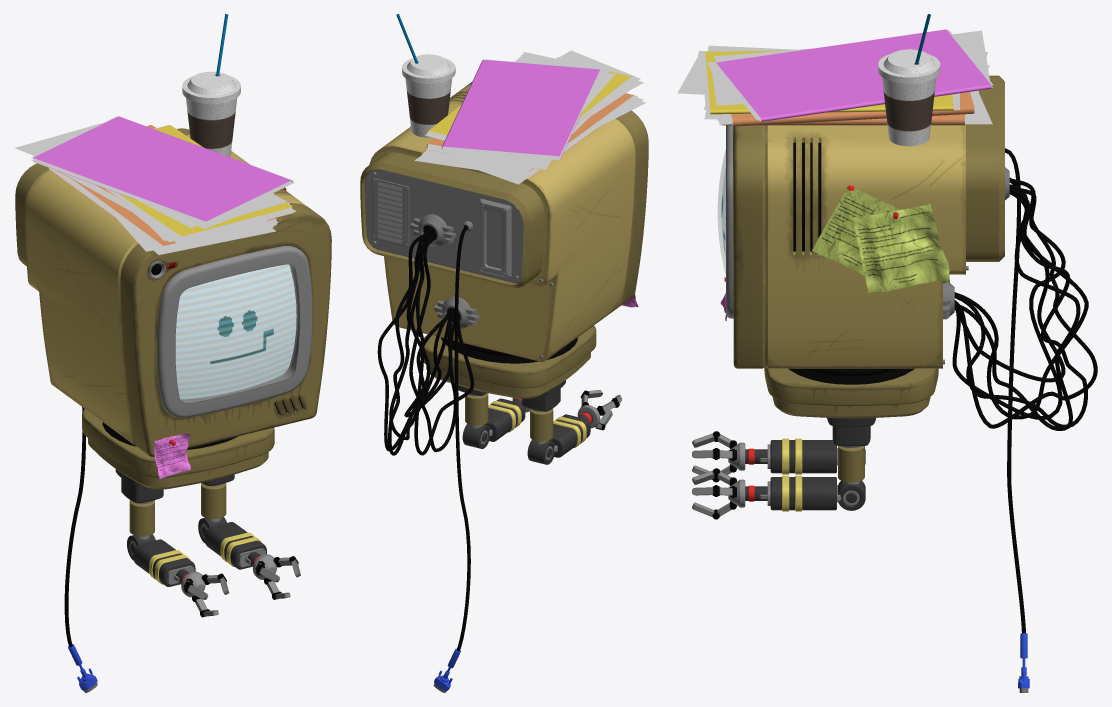
File: robot.glb
The picture shows the model from 3 angles, left to right: view 1: azimuth 30°, elevation 25°; view 2: azimuth 150°, elevation 25°; view 3: azimuth 270°, elevation 25°; orthographic projection. The views are drawn at different scales.
Parts seen in each view (by area): view 1: Cube, Plane.006, Cube.005, Cube.006, Cube.004, Cube.001, Cylinder.002, Plane.005, Plane.027, Cube.015, Cube.008, Plane.001 (+6 smaller); view 2: Cube, Plane.006, object 7, Cube.001, Cylinder.002, Plane.027, Cube.022, Cube.023, Plane.005, object 4, Cube.015, Cube.008 (+9 smaller); view 3: Cube, Plane.006, object 7, Cube.001, Plane.002, Cylinder.002, Plane.003, Plane.005, Cube.008, Cube.015, Plane.004, object 4 (+8 smaller).
Boxes of the visible parts, x1=… form: Cube: x1=15, y1=128, x2=331, y2=456; Plane.006: x1=14, y1=116, x2=294, y2=228; Cube.005: x1=176, y1=264, x2=297, y2=400; Cube.006: x1=175, y1=264, x2=296, y2=399; Cube.004: x1=157, y1=246, x2=312, y2=417; Cube.001: x1=82, y1=409, x2=274, y2=489; Cylinder.002: x1=182, y1=71, x2=240, y2=156; Plane.005: x1=104, y1=125, x2=293, y2=243; Plane.027: x1=49, y1=168, x2=278, y2=254; Cube.015: x1=133, y1=539, x2=195, y2=586; Cube.008: x1=205, y1=522, x2=266, y2=569; Plane.001: x1=154, y1=433, x2=190, y2=478; Cube: x1=360, y1=82, x2=648, y2=361; Plane.006: x1=441, y1=52, x2=615, y2=169; object 7: x1=377, y1=226, x2=474, y2=455; Cube.001: x1=424, y1=325, x2=596, y2=398; Cylinder.002: x1=402, y1=54, x2=455, y2=137; Plane.027: x1=414, y1=93, x2=646, y2=184; Cube.022: x1=479, y1=198, x2=511, y2=278; Cube.023: x1=372, y1=178, x2=409, y2=246; Plane.005: x1=427, y1=50, x2=643, y2=138; object 4: x1=454, y1=225, x2=470, y2=651; Cube.015: x1=549, y1=414, x2=590, y2=457; Cube.008: x1=484, y1=398, x2=525, y2=441; Cube: x1=733, y1=75, x2=1004, y2=368; Plane.006: x1=707, y1=29, x2=993, y2=121; object 7: x1=952, y1=177, x2=1097, y2=430; Cube.001: x1=764, y1=366, x2=938, y2=418; Plane.002: x1=852, y1=204, x2=949, y2=293; Cylinder.002: x1=878, y1=49, x2=940, y2=146; Plane.003: x1=812, y1=185, x2=913, y2=275; Plane.005: x1=677, y1=45, x2=956, y2=114; Cube.008: x1=759, y1=475, x2=840, y2=511; Cube.015: x1=759, y1=438, x2=837, y2=474; Plane.004: x1=709, y1=52, x2=987, y2=126; object 4: x1=1005, y1=148, x2=1025, y2=633.
Size of the model in its own units: 2.19 by 6.6 by 3.45.
24 materials, 8 textured.
